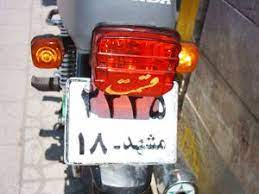car: (63, 80, 178, 163)
